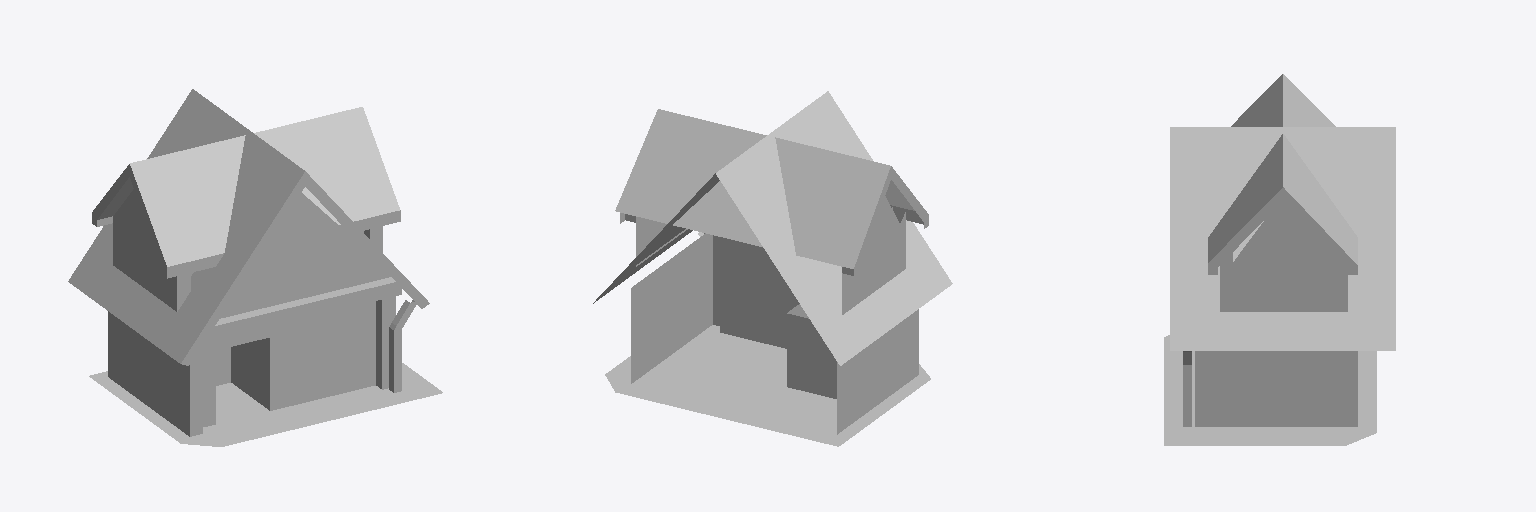
Rendered from Pallet Town House 2.obj.
3 views of the same model, side by side, from view 1: azimuth 30°, elevation 25°; view 2: azimuth 150°, elevation 25°; view 3: azimuth 270°, elevation 25° (orthographic).
Parts seen in each view (by area): view 1: polygon4, polygon1, polygon2, polygon0, polygon3; view 2: polygon4, polygon1, polygon2; view 3: polygon4, polygon1, polygon3.
Part boxes in pixels (x1,y1,x2,y2): polygon4: (68,89,429,436); polygon1: (89,363,442,446); polygon2: (216,338,269,420); polygon0: (244,235,354,372); polygon3: (389,300,416,392); polygon4: (593,91,952,434); polygon1: (605,325,930,446); polygon2: (787,304,836,398); polygon4: (1170,74,1395,426); polygon1: (1164,335,1376,445); polygon3: (1183,351,1191,426).
Bounding box in the file's own units: 96 × 89.02 × 74.